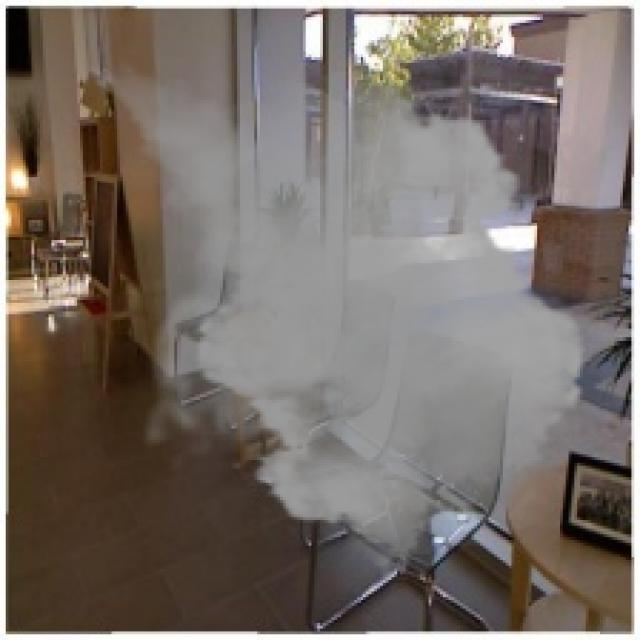smoke: (57, 51, 600, 583)
